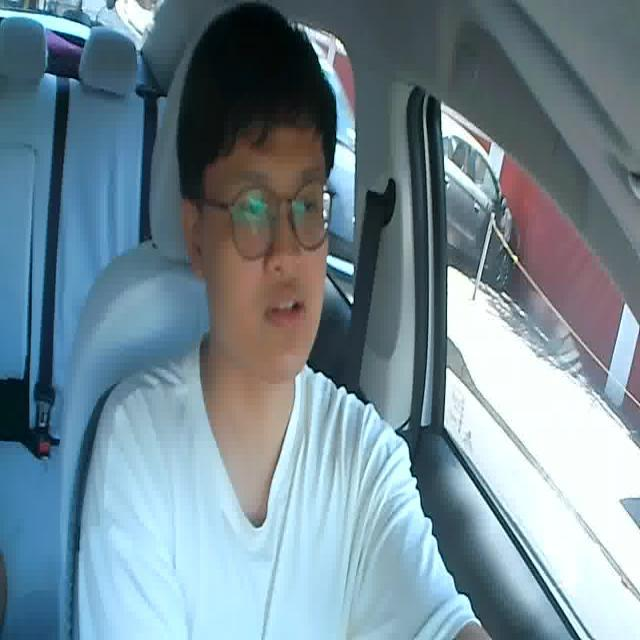Attentive: (174, 2, 338, 385)
Eye-Open: (239, 188, 273, 229), (299, 192, 324, 224)
Normal: (265, 284, 310, 334)
